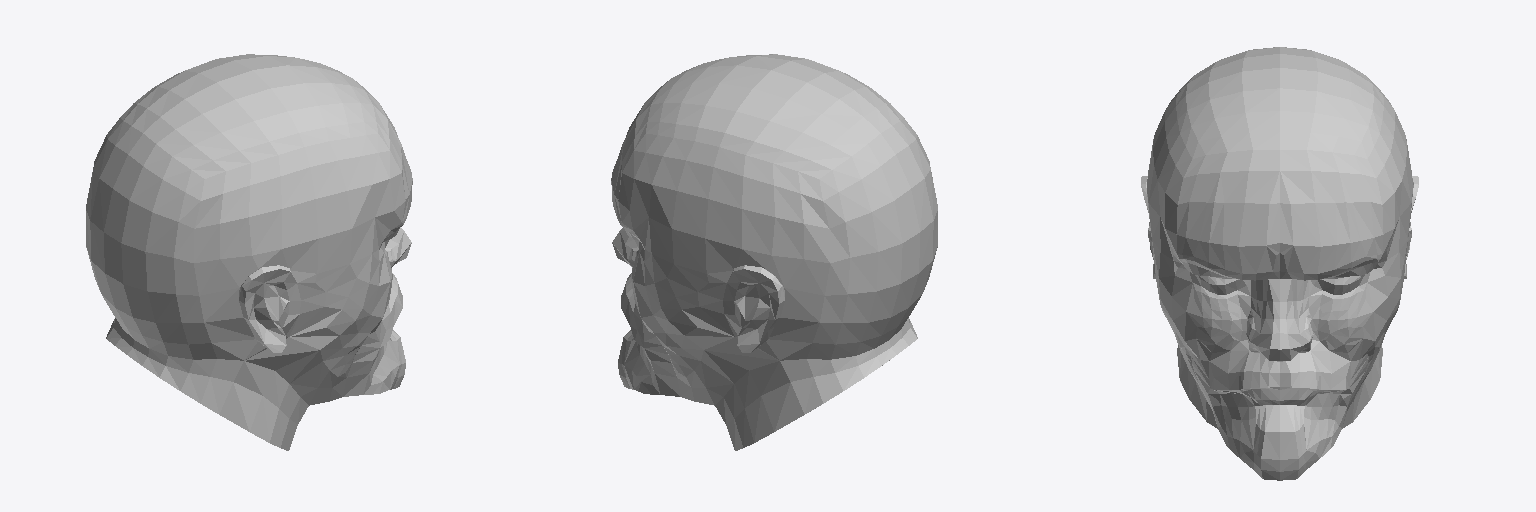
File: lenin.obj
3 renders of one model, left to right at view 1: azimuth 30°, elevation 25°; view 2: azimuth 150°, elevation 25°; view 3: azimuth 270°, elevation 25°, orthographic.
Visible parts, largest first — view 1: lenin; view 2: lenin; view 3: lenin.
Part boxes in pixels (x1,y1,x2,y2): lenin: (86, 54, 412, 450); lenin: (611, 54, 937, 450); lenin: (1141, 47, 1418, 480).
Size of the model in its own units: 4.19 by 4.91 by 3.32.